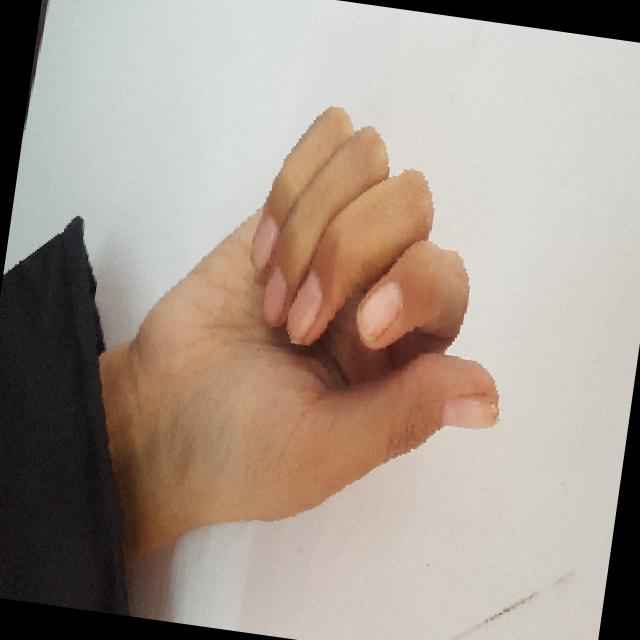Nail: (357, 280, 403, 341), (287, 270, 323, 343), (443, 392, 498, 429), (251, 216, 279, 270), (263, 266, 287, 325)
